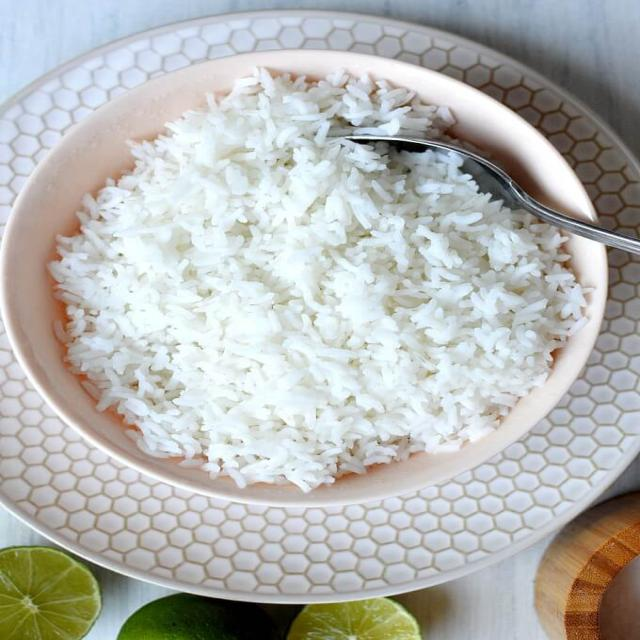Wet Waste: (45, 70, 574, 493)
